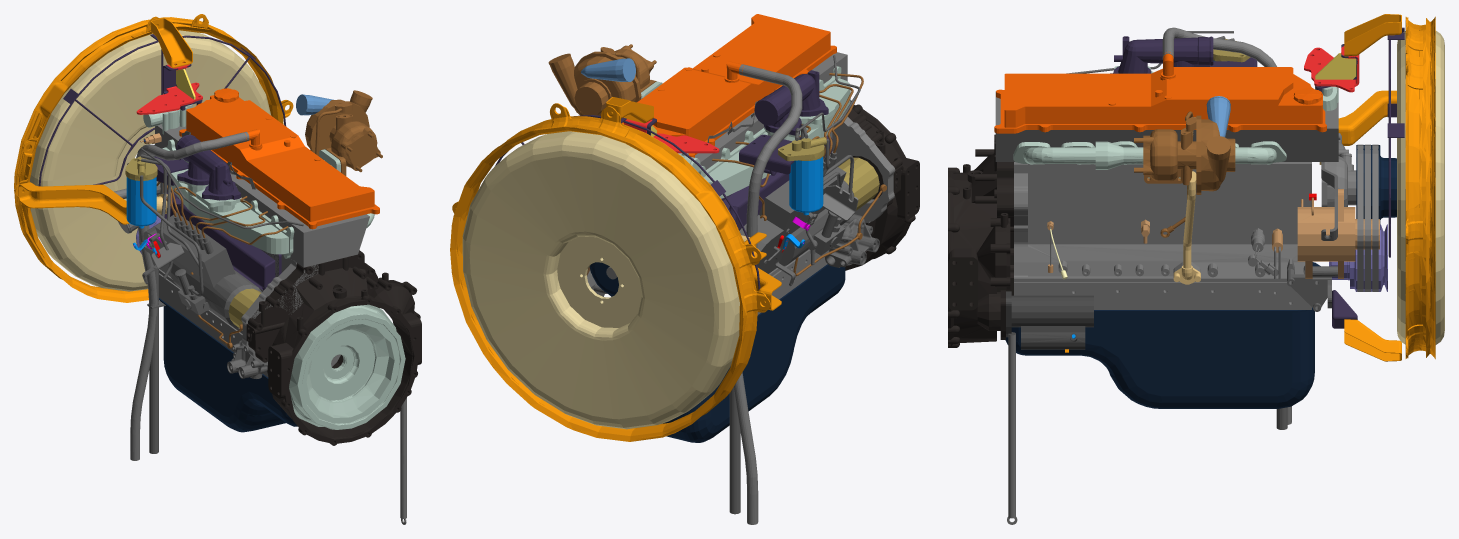
The model's file is engine_.glb.
The picture shows the model from 3 angles, left to right: view 1: azimuth 30°, elevation 25°; view 2: azimuth 150°, elevation 25°; view 3: azimuth 270°, elevation 25°; orthographic projection. The views are drawn at different scales.
Visible parts, largest first — view 1: ZX370GI_ENGINE/ENG_6HK1TC_ASM_4436720_2_ZAXIS370GI_jt [ENG_6 (×27), ZX370GI_ENGINE/PPZX330-3CZ-ENG-PARTS-OTHER%58dum1501462 [PPZ (×4); view 2: ZX370GI_ENGINE/ENG_6HK1TC_ASM_4436720_2_ZAXIS370GI_jt [ENG_6 (×23), ZX370GI_ENGINE/PPZX330-3CZ-ENG-PARTS-OTHER%58dum1501462 [PPZ (×4); view 3: ZX370GI_ENGINE/ENG_6HK1TC_ASM_4436720_2_ZAXIS370GI_jt [ENG_6 (×28), ZX370GI_ENGINE/PPZX330-3CZ-ENG-PARTS-OTHER%58dum1501462 [PPZ (×4).
Part boxes in pixels (x1,y1,x2,y2): ZX370GI_ENGINE/ENG_6HK1TC_ASM_4436720_2_ZAXIS370GI_jt [ENG_6 (×27): [14, 14, 421, 524]; ZX370GI_ENGINE/PPZX330-3CZ-ENG-PARTS-OTHER%58dum1501462 [PPZ (×4): [130, 69, 333, 460]; ZX370GI_ENGINE/ENG_6HK1TC_ASM_4436720_2_ZAXIS370GI_jt [ENG_6 (×23): [450, 14, 919, 514]; ZX370GI_ENGINE/PPZX330-3CZ-ENG-PARTS-OTHER%58dum1501462 [PPZ (×4): [581, 58, 874, 524]; ZX370GI_ENGINE/ENG_6HK1TC_ASM_4436720_2_ZAXIS370GI_jt [ENG_6 (×28): [948, 14, 1444, 524]; ZX370GI_ENGINE/PPZX330-3CZ-ENG-PARTS-OTHER%58dum1501462 [PPZ (×4): [1162, 27, 1359, 424].
Bounding box in the file's own units: 0.9951 × 1.37 × 1.33.
